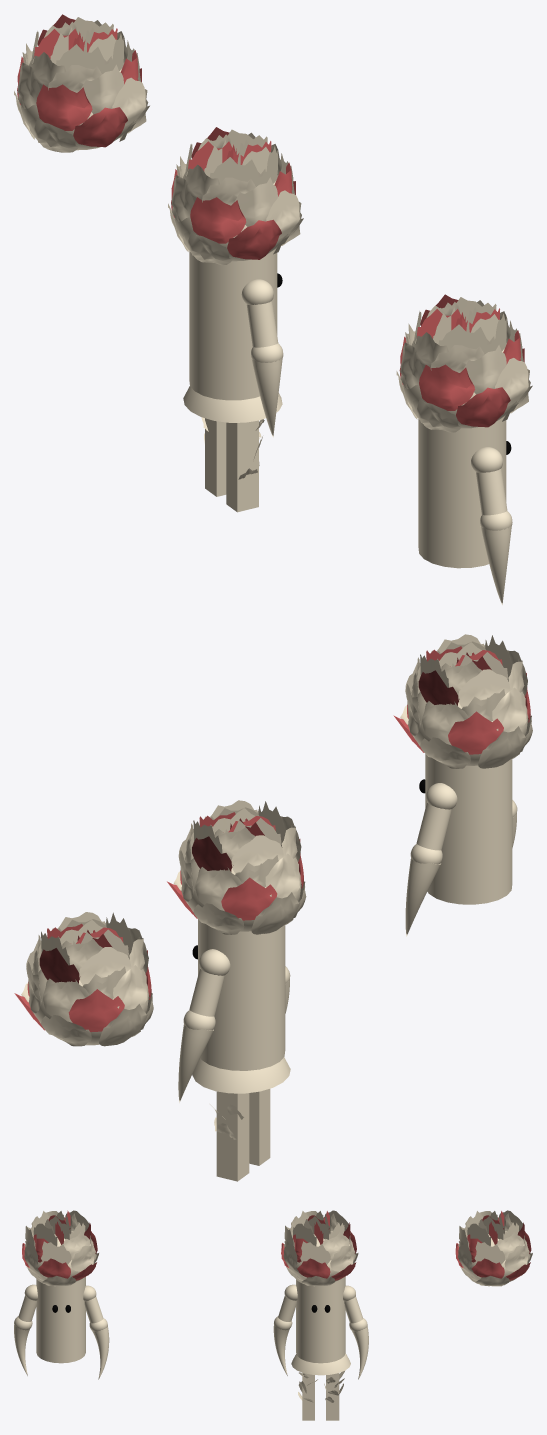
The model's file is Fungel_Fucker.fbx.
3 renders of one model, top to bottom at view 1: azimuth 30°, elevation 25°; view 2: azimuth 150°, elevation 25°; view 3: azimuth 270°, elevation 25°, orthographic. The views are drawn at different scales.
Visible parts, largest first — view 1: pasted__pasted__group9_pasted__pDisc1, group9_pasted__pDisc1, pasted__group9_pasted__pDisc1, pasted__pCylinder2, pCylinder2, pasted__pCube1, pCone1, pCube1, pasted__pasted__pasted__pasted__pCone1, pasted__pasted__pasted__pCone1, pasted__pCylinder1, pCylinder1 (+2 smaller); view 2: pasted__pasted__group9_pasted__pDisc1, pasted__group9_pasted__pDisc1, group9_pasted__pDisc1, pCylinder2, pasted__pCylinder2, pCube1, pCone1, pasted__pCube1, pasted__pasted__pasted__pCone1, pasted__pasted__pCone1, pasted__pCylinder1, pasted__pasted__pCylinder1 (+2 smaller); view 3: group9_pasted__pDisc1, pasted__pasted__group9_pasted__pDisc1, pasted__group9_pasted__pDisc1, pCylinder2, pasted__pCylinder2, pasted__pasted__pasted__pCone1 (×2), pCone1, pasted__pCylinder1 (×2), pCube1, pasted__pCube1, pasted__pasted__pCone1, pasted__pasted__pasted__pasted__pCone1 (+2 smaller).
Part boxes in pixels (box(x1,y1,x2,y2)): pasted__pasted__group9_pasted__pDisc1: box(14, 14, 149, 152); group9_pasted__pDisc1: box(168, 127, 303, 265); pasted__group9_pasted__pDisc1: box(396, 294, 532, 432); pasted__pCylinder2: box(418, 416, 506, 568); pCylinder2: box(189, 248, 277, 400); pasted__pCube1: box(226, 420, 258, 512); pCone1: box(183, 386, 282, 422); pCube1: box(205, 418, 226, 496); pasted__pasted__pasted__pasted__pCone1: box(480, 525, 511, 604); pasted__pasted__pasted__pCone1: box(251, 358, 282, 437); pasted__pCylinder1: box(476, 468, 507, 515); pCylinder1: box(246, 300, 278, 347); pasted__pasted__group9_pasted__pDisc1: box(14, 912, 153, 1046); pasted__group9_pasted__pDisc1: box(393, 634, 532, 768); group9_pasted__pDisc1: box(167, 800, 306, 934); pCylinder2: box(198, 919, 285, 1070); pasted__pCylinder2: box(425, 754, 512, 904); pCube1: box(216, 1091, 249, 1181); pCone1: box(192, 1057, 290, 1093); pasted__pCube1: box(249, 1089, 270, 1165); pasted__pasted__pasted__pCone1: box(405, 858, 440, 936); pasted__pasted__pCone1: box(178, 1025, 213, 1102); pasted__pCylinder1: box(189, 969, 224, 1016); pasted__pasted__pCylinder1: box(416, 802, 451, 850); group9_pasted__pDisc1: box(281, 1210, 358, 1286); pasted__pasted__group9_pasted__pDisc1: box(455, 1210, 532, 1286); pasted__group9_pasted__pDisc1: box(22, 1210, 98, 1286); pCylinder2: box(296, 1276, 345, 1363); pasted__pCylinder2: box(36, 1277, 85, 1363); pasted__pasted__pasted__pCone1 (×2): box(92, 1325, 289, 1379); pCone1: box(291, 1353, 350, 1375); pasted__pCylinder1 (×2): box(18, 1295, 362, 1323); pCube1: box(326, 1373, 339, 1420); pasted__pCube1: box(302, 1373, 314, 1420); pasted__pasted__pCone1: box(352, 1327, 368, 1379); pasted__pasted__pasted__pasted__pCone1: box(14, 1324, 29, 1375).
Size of the model in its own units: 2.46 by 6.91 by 16.04.
